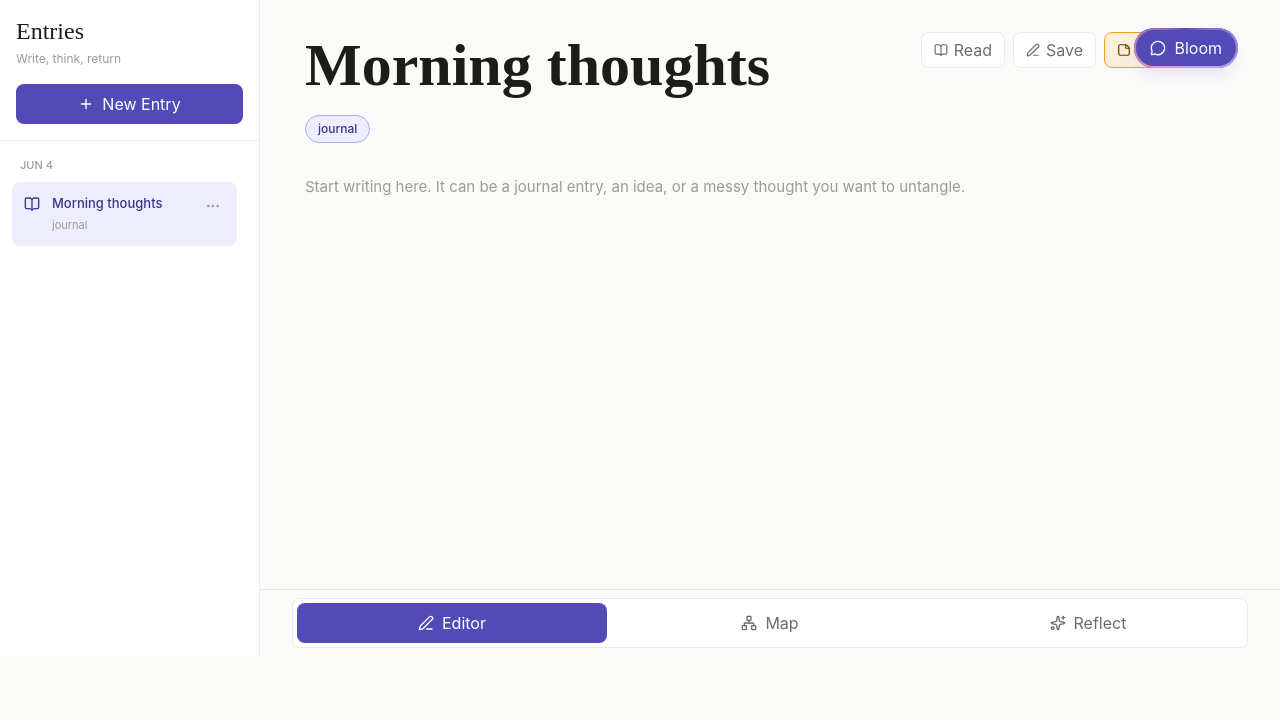
JournalWorkspace › renames the selected entry inline
Click the button named "Rename entry title". click: click(605, 66)
box: 305,28 -> 905,103
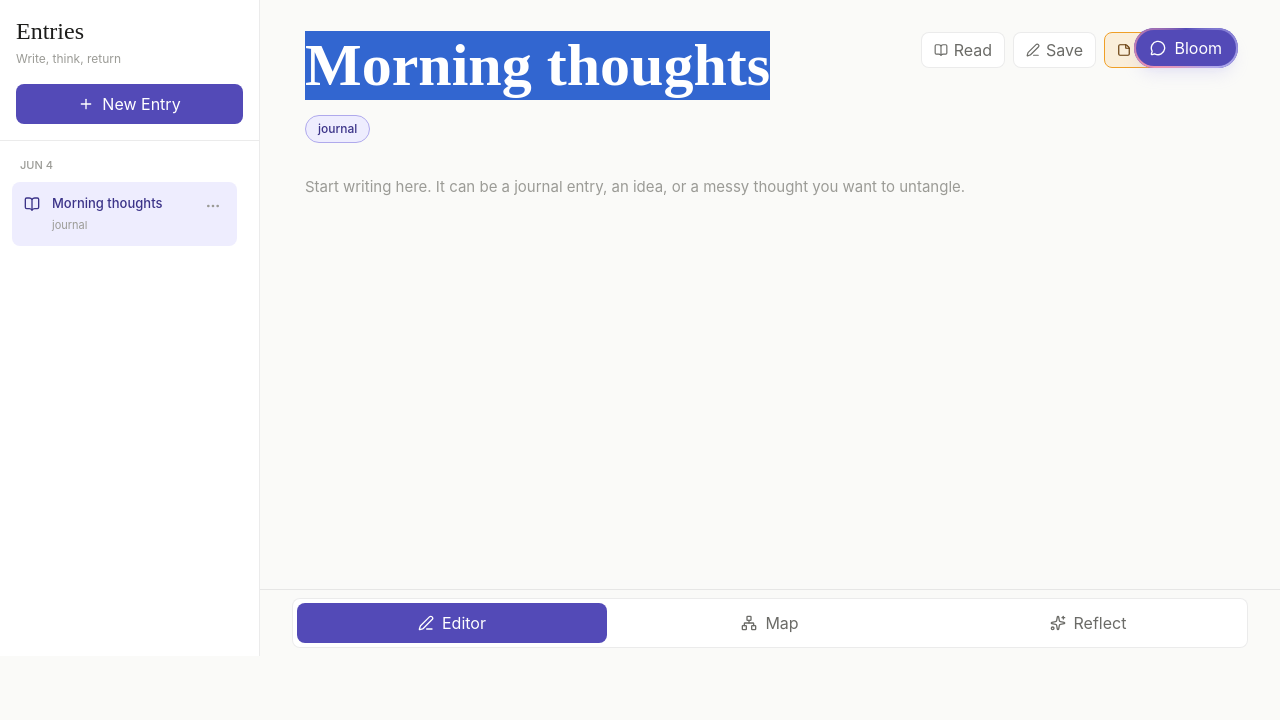
Replace the text in the field named "Journal title" with "Renamed thoughts". click: (605, 66)
box: 305,28 -> 905,103
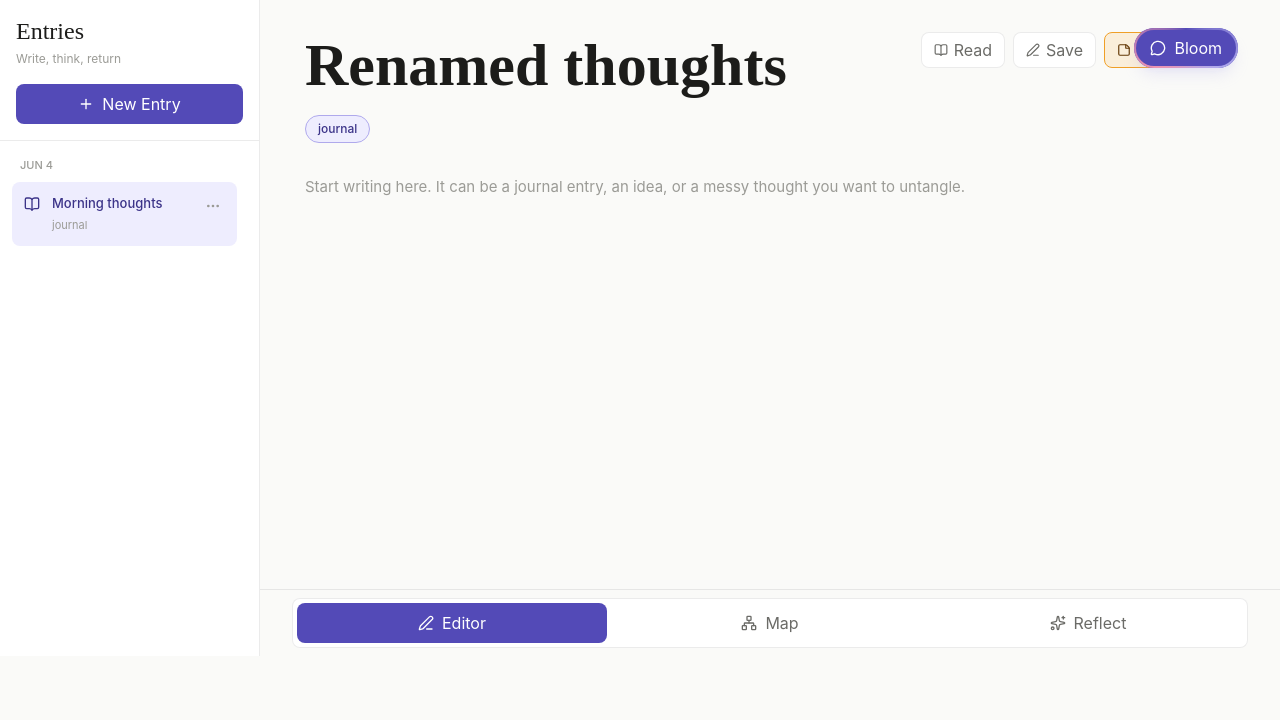
Click the text box labelled "journal entry". click: click(765, 400)
box: 305,175 -> 1225,625
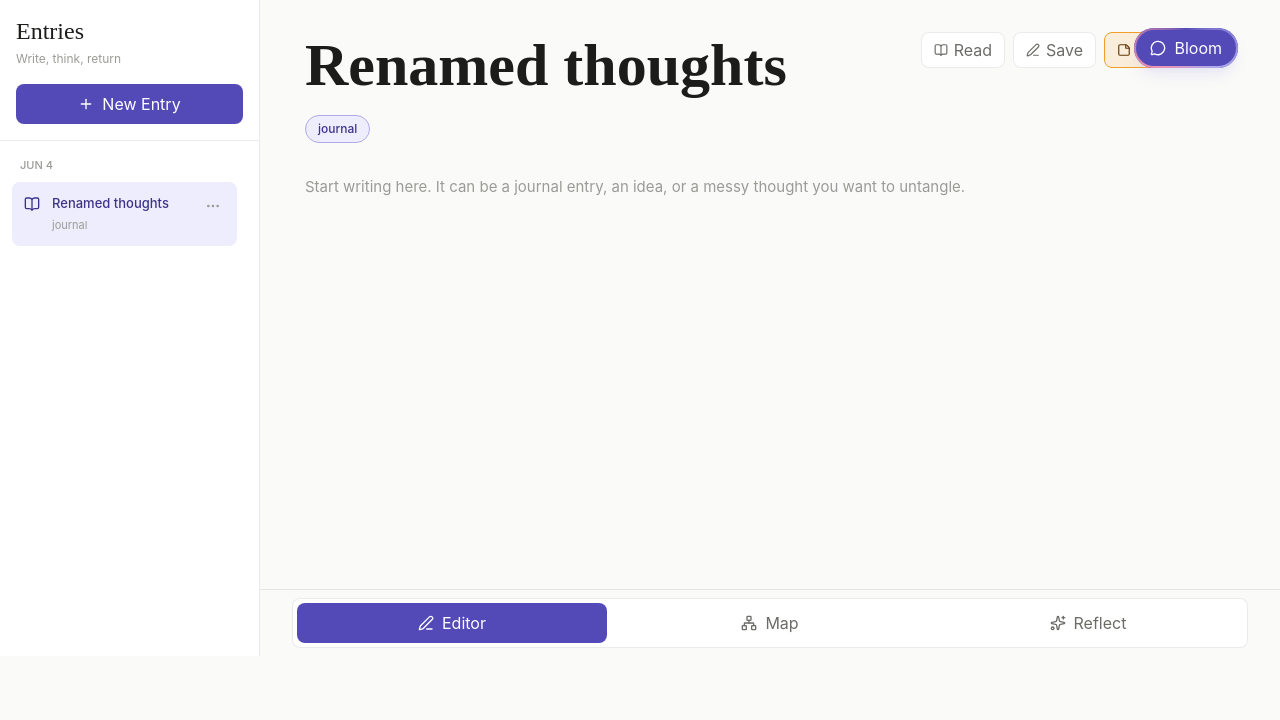
Result: the text "Renamed thoughts" is shown at 52,194 -> 169,210
